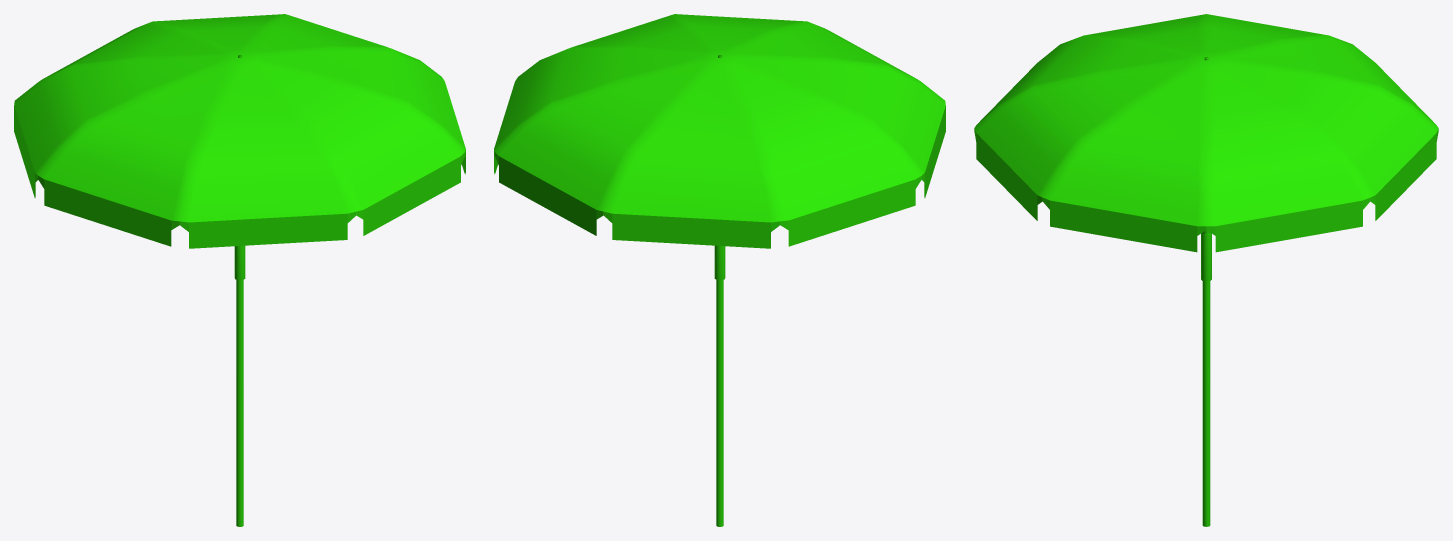
The model's file is Beach_Umbrella_02_Lod0.fbx.
The picture shows the model from 3 angles, left to right: view 1: azimuth 30°, elevation 25°; view 2: azimuth 150°, elevation 25°; view 3: azimuth 270°, elevation 25°; orthographic projection.
Parts seen in each view (by area): view 1: Beach_Umbrella_02_Lod0; view 2: Beach_Umbrella_02_Lod0; view 3: Beach_Umbrella_02_Lod0.
Part boxes in pixels (<box>): Beach_Umbrella_02_Lod0: <box>14,14,465,526</box>; Beach_Umbrella_02_Lod0: <box>494,14,945,526</box>; Beach_Umbrella_02_Lod0: <box>974,14,1438,526</box>.
Size of the model in its own units: 243 by 270 by 243.
